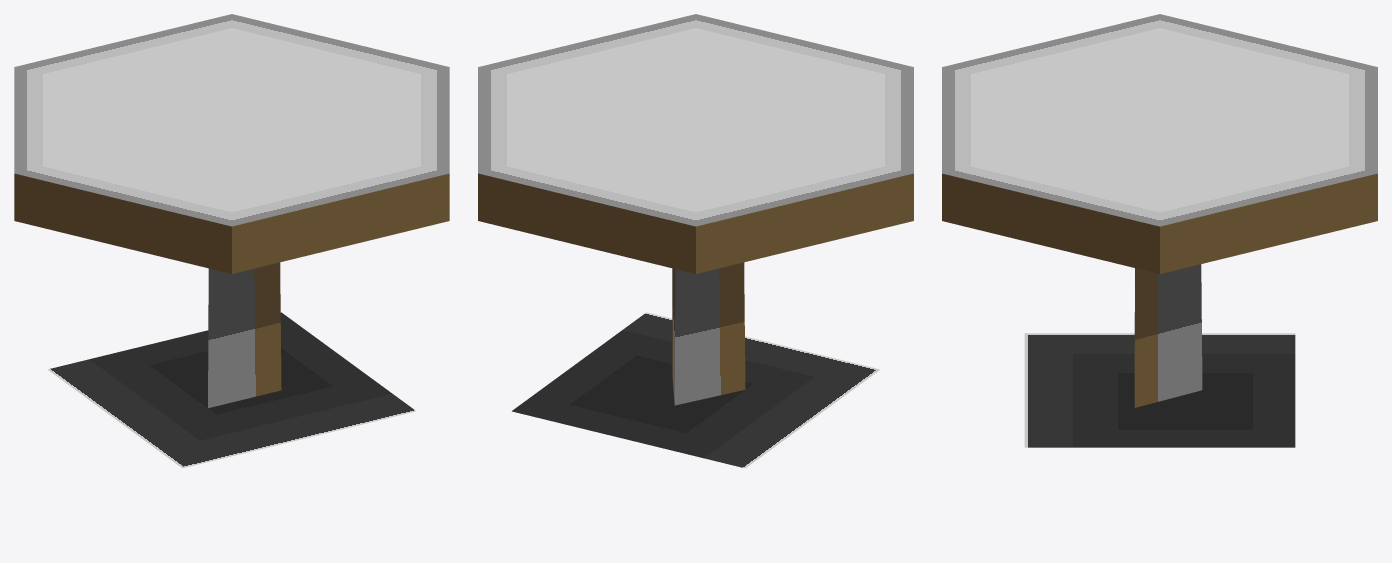
The model's file is table_0.obj.
The picture shows the model from 3 angles, left to right: view 1: azimuth 30°, elevation 25°; view 2: azimuth 150°, elevation 25°; view 3: azimuth 270°, elevation 25°; orthographic projection.
Parts seen in each view (by area): view 1: table_0; view 2: table_0; view 3: table_0.
Part boxes in pixels (bbox=[...]): table_0: bbox=[14, 14, 449, 468]; table_0: bbox=[478, 14, 913, 468]; table_0: bbox=[942, 14, 1377, 447].
Bounding box in the file's own units: 0.2266 × 0.1644 × 0.1962.
1 material, 1 textured.
